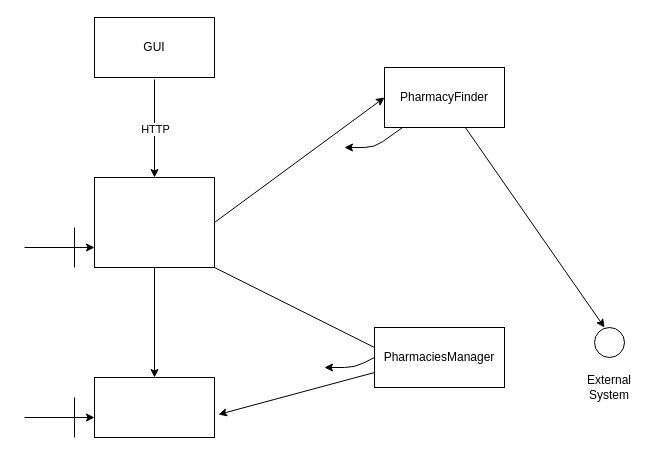
Image size: 649x456. Some labels were removed from this diagram. Each missing label, with the centre of its shape:
Data: the point at 154,407
Service: the point at 154,222
